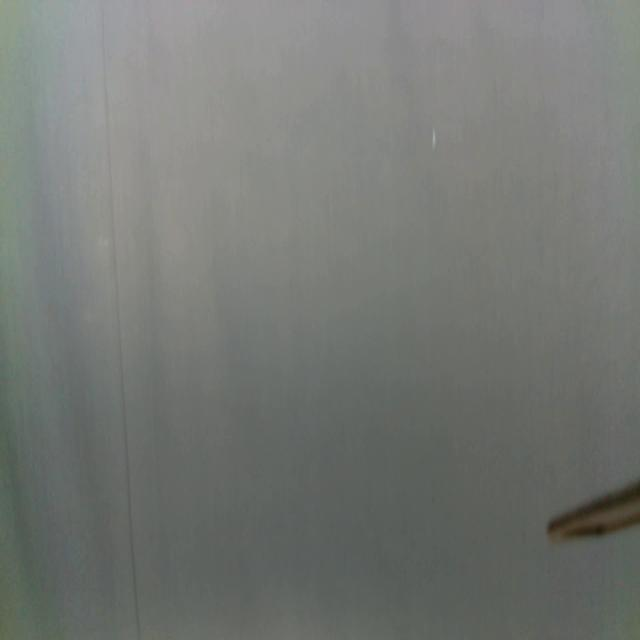crease: (101, 4, 141, 640)
hole: (430, 126, 438, 150)
